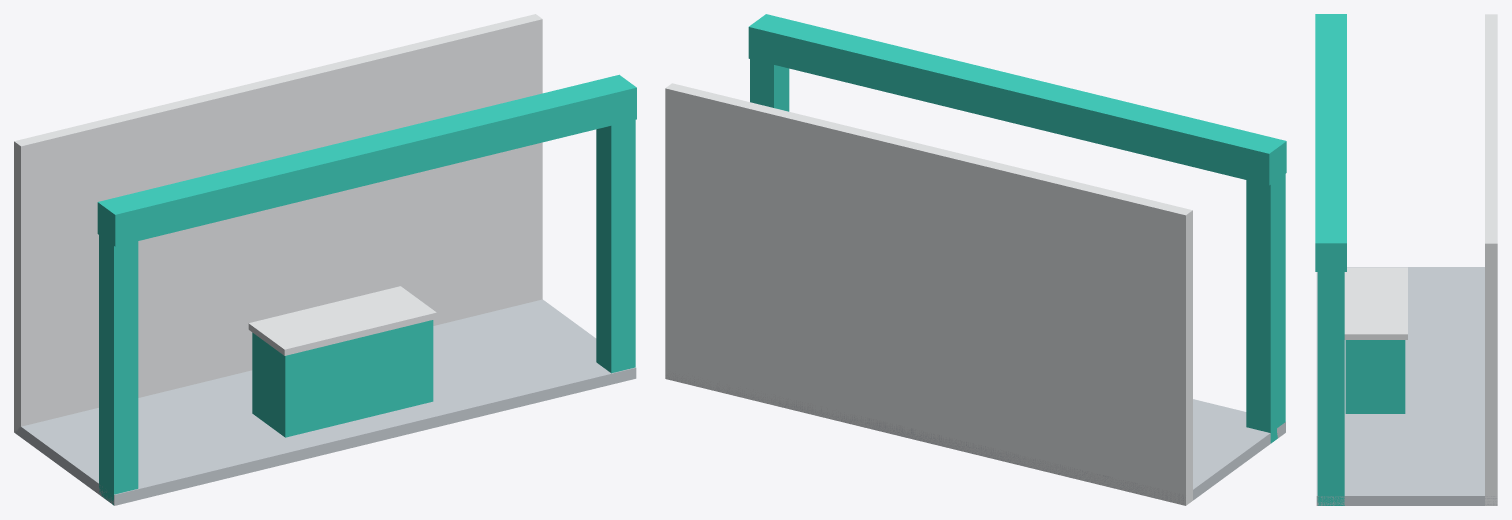
3 views of the same model, side by side, from view 1: azimuth 30°, elevation 25°; view 2: azimuth 150°, elevation 25°; view 3: azimuth 270°, elevation 25° (orthographic). The views are drawn at different scales.
Parts seen in each view (by area): view 1: Exhibition Booth Concept; view 2: Exhibition Booth Concept; view 3: Exhibition Booth Concept.
Boxes of the visible parts, box(x1,y1,x2,y2) form: Exhibition Booth Concept: box(14, 14, 636, 505); Exhibition Booth Concept: box(665, 14, 1286, 505); Exhibition Booth Concept: box(1315, 14, 1497, 505).
Bounding box in the file's own units: 6 × 3.2 × 2.01.
